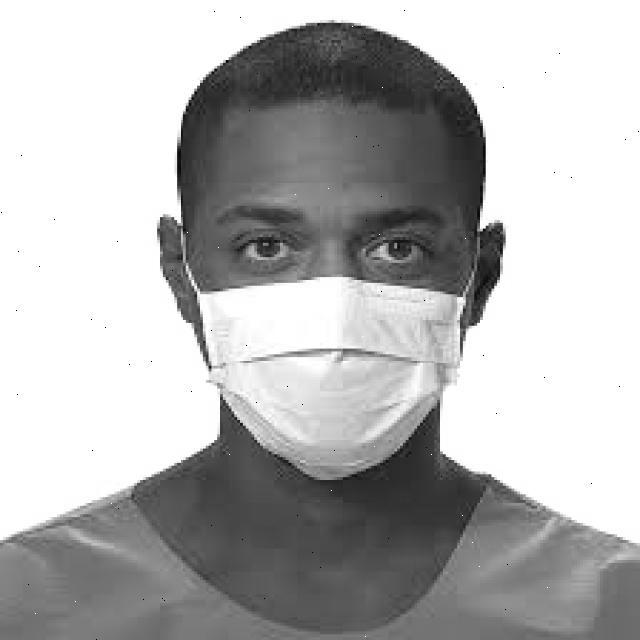fake: (191, 274, 473, 486)
real: (192, 107, 481, 488)
